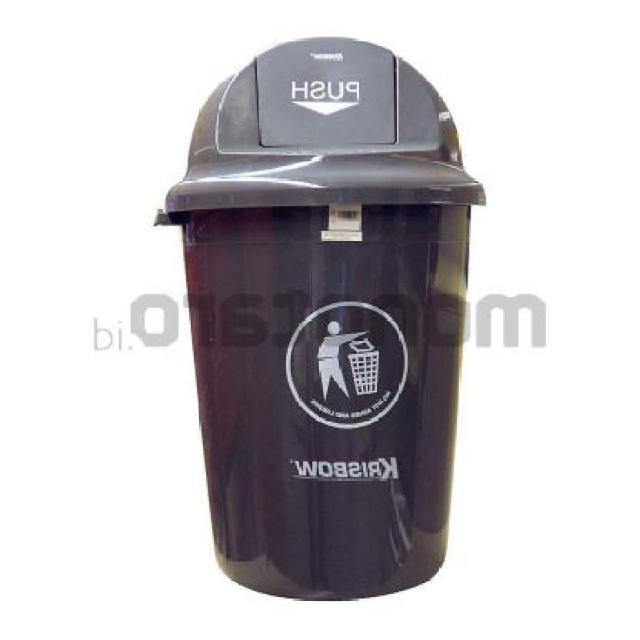garbage container: (144, 19, 516, 624)
